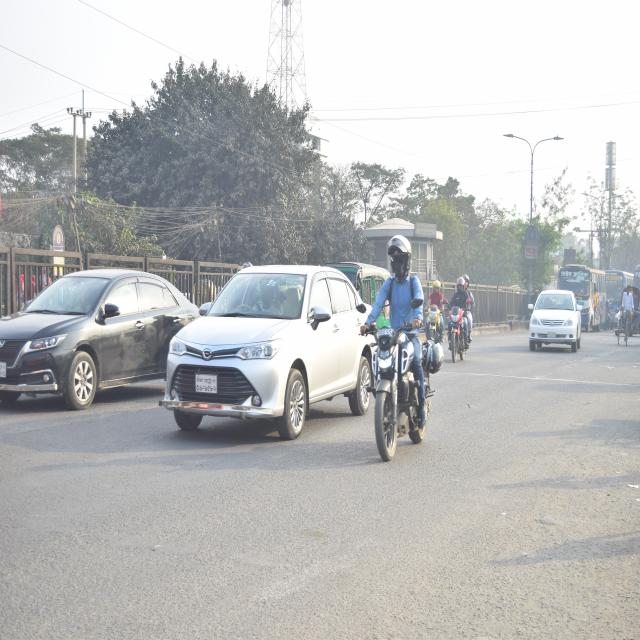bus: (560, 257, 609, 330), (605, 262, 632, 306)
car: (168, 242, 369, 448), (0, 261, 181, 418), (523, 281, 584, 355)
motorbike: (353, 284, 432, 464), (448, 296, 474, 368), (422, 289, 447, 354)
